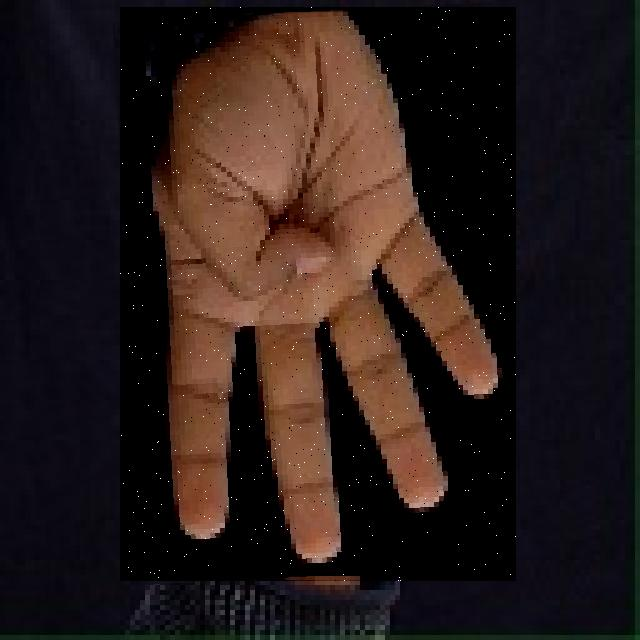Thanks: (120, 7, 516, 581)
